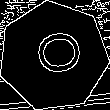O_W: (25, 32, 82, 81)
